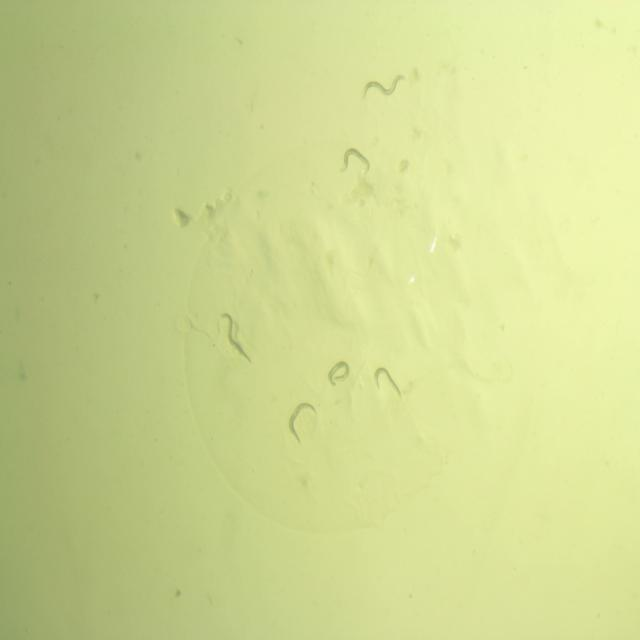worm: (219, 312, 253, 365), (361, 71, 408, 102), (286, 401, 318, 446), (372, 365, 403, 402), (338, 147, 372, 177), (326, 358, 351, 389)
